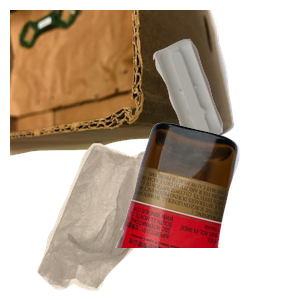cardboard: (10, 10, 237, 158)
glass: (113, 120, 300, 300)
plastic: (150, 36, 300, 173)
trash: (35, 140, 203, 300)
